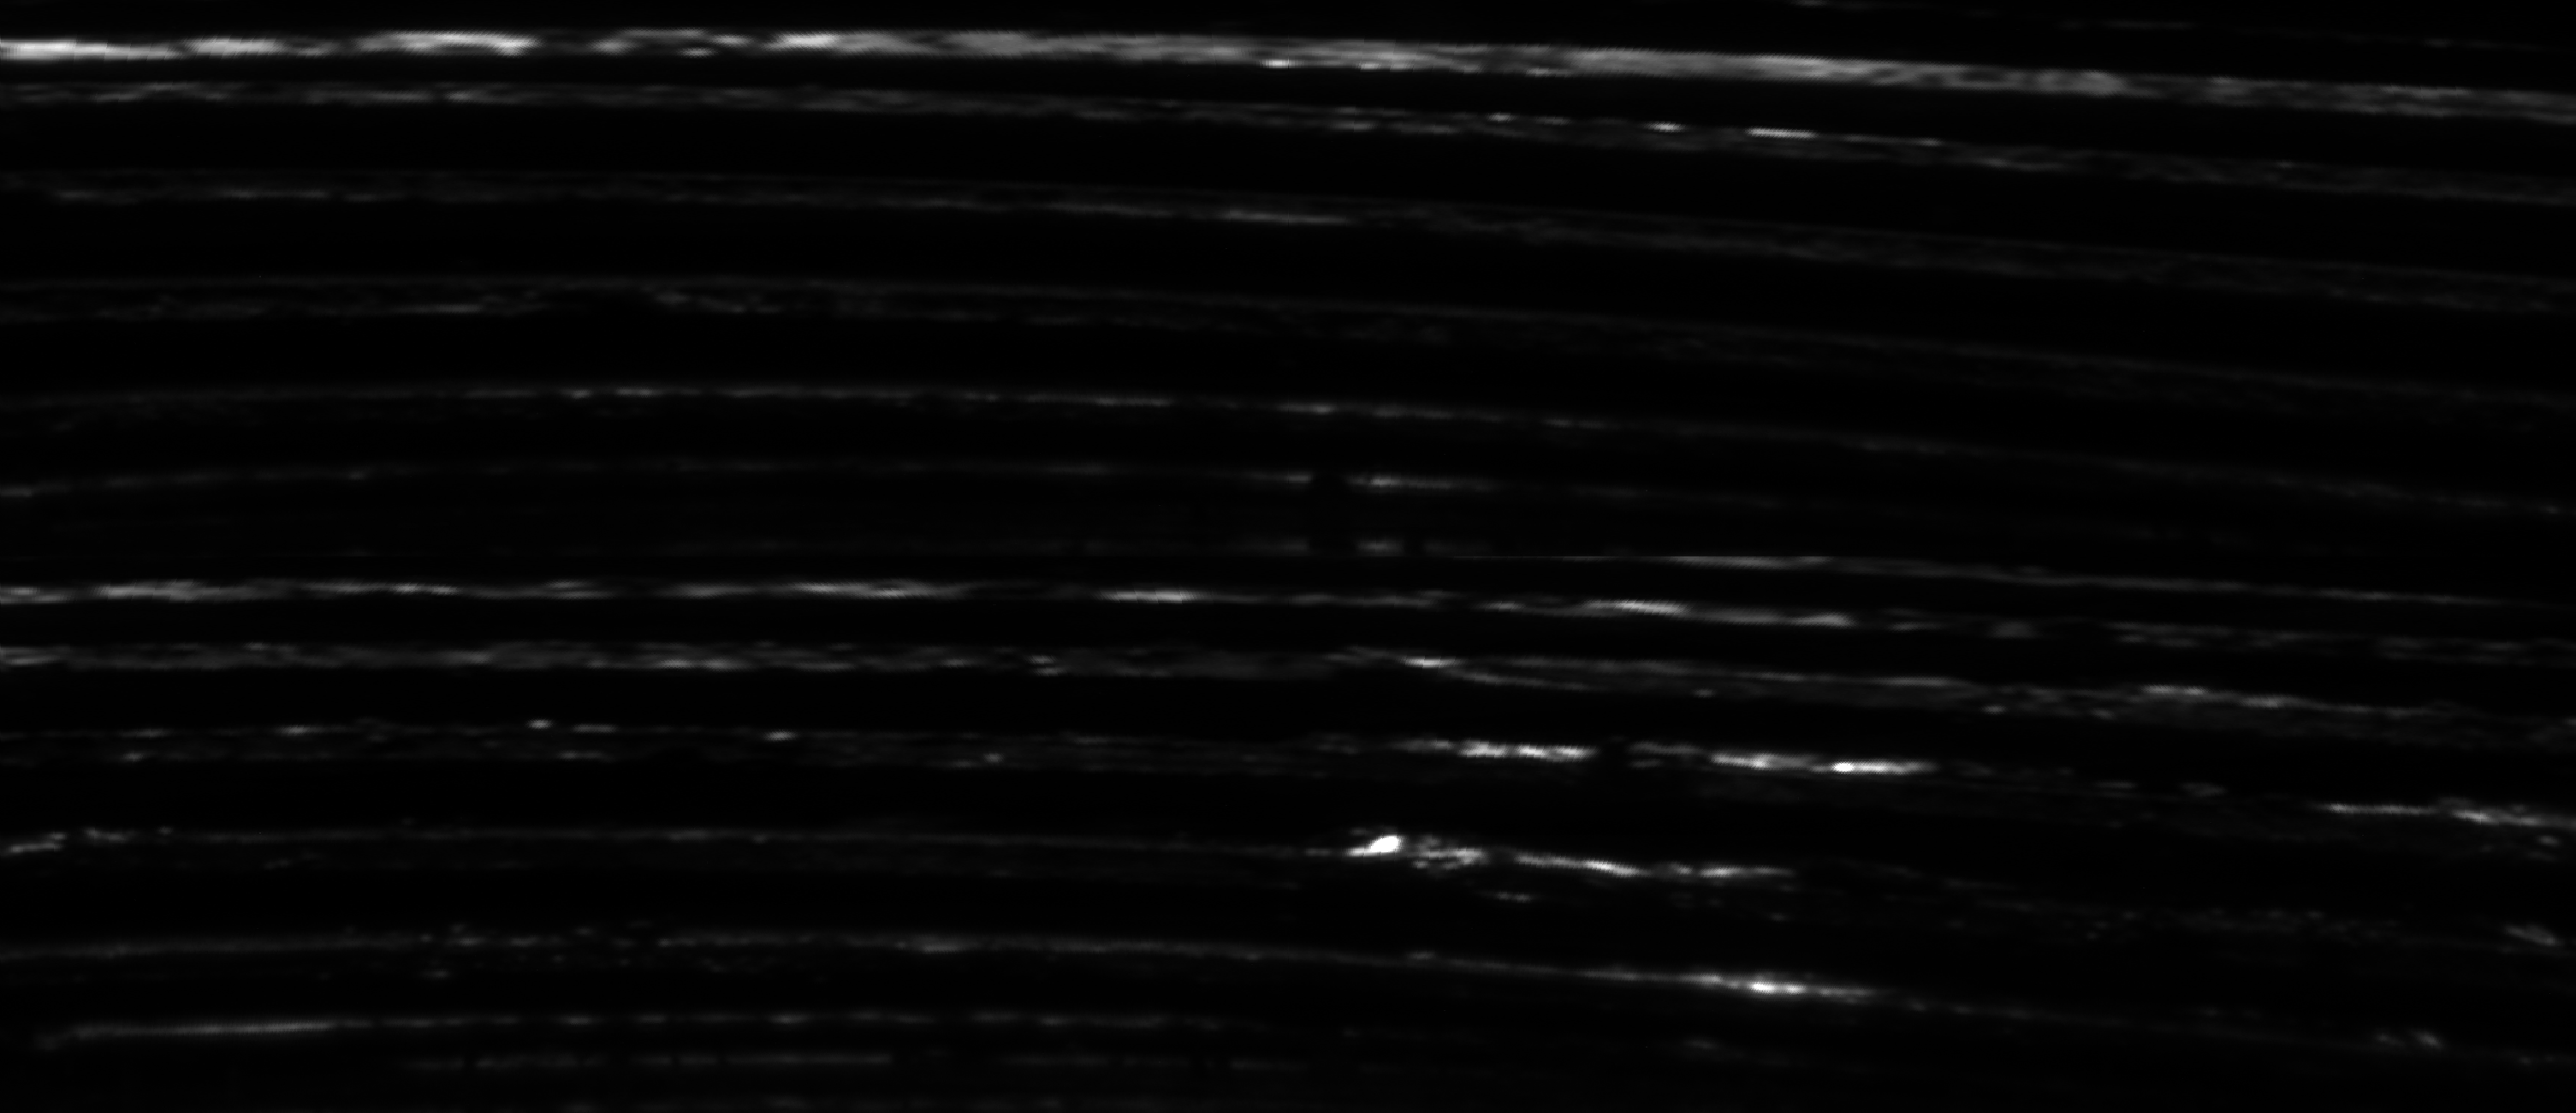corrosion zone: (1324, 630, 1991, 1028)
extensive chipped: (38, 66, 2435, 577), (44, 572, 2560, 1057)
